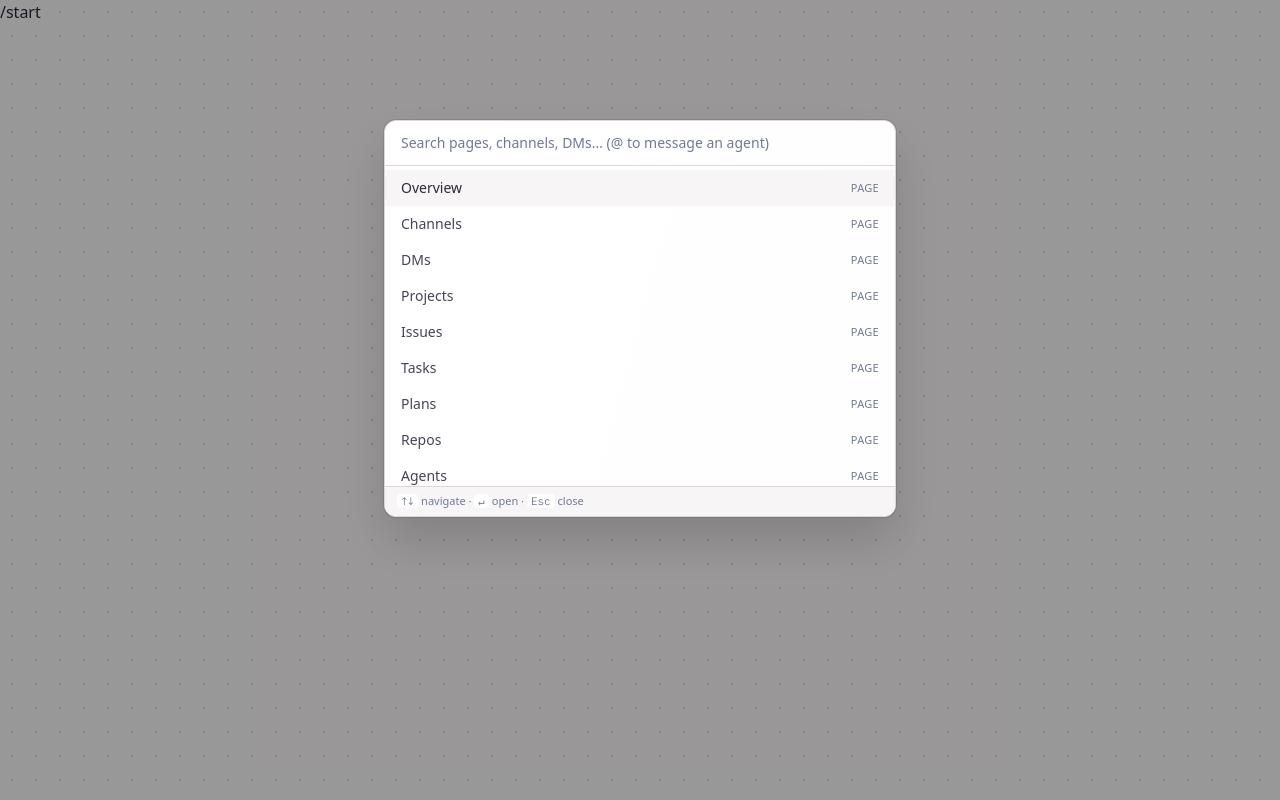
CommandPalette org-scoped navigation (v2.8.1 fix) › jumps to the workspace AI Runtime list
Type "AI Runtime" into the field with test id "palette-input" at (640, 144), box [385, 121, 895, 166]
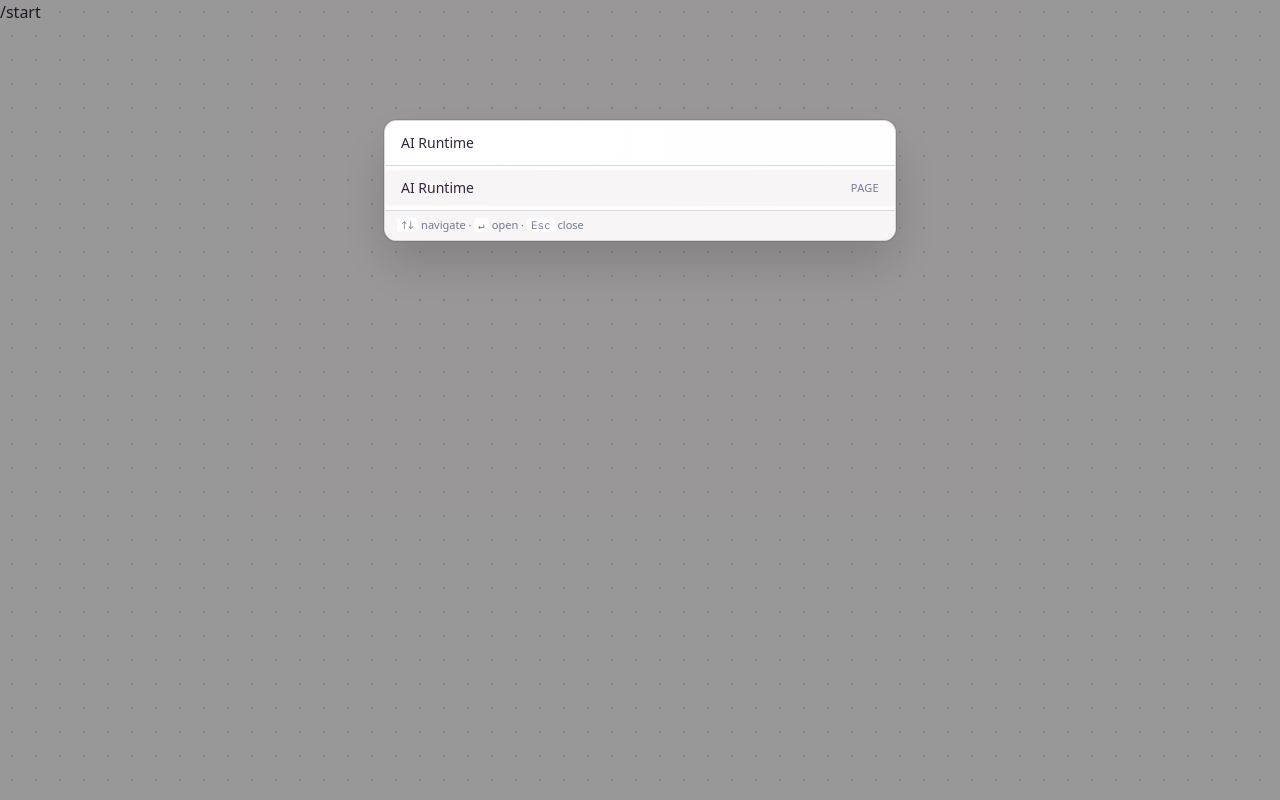
Press Enter in the field with test id "palette-input", box [385, 121, 895, 166]
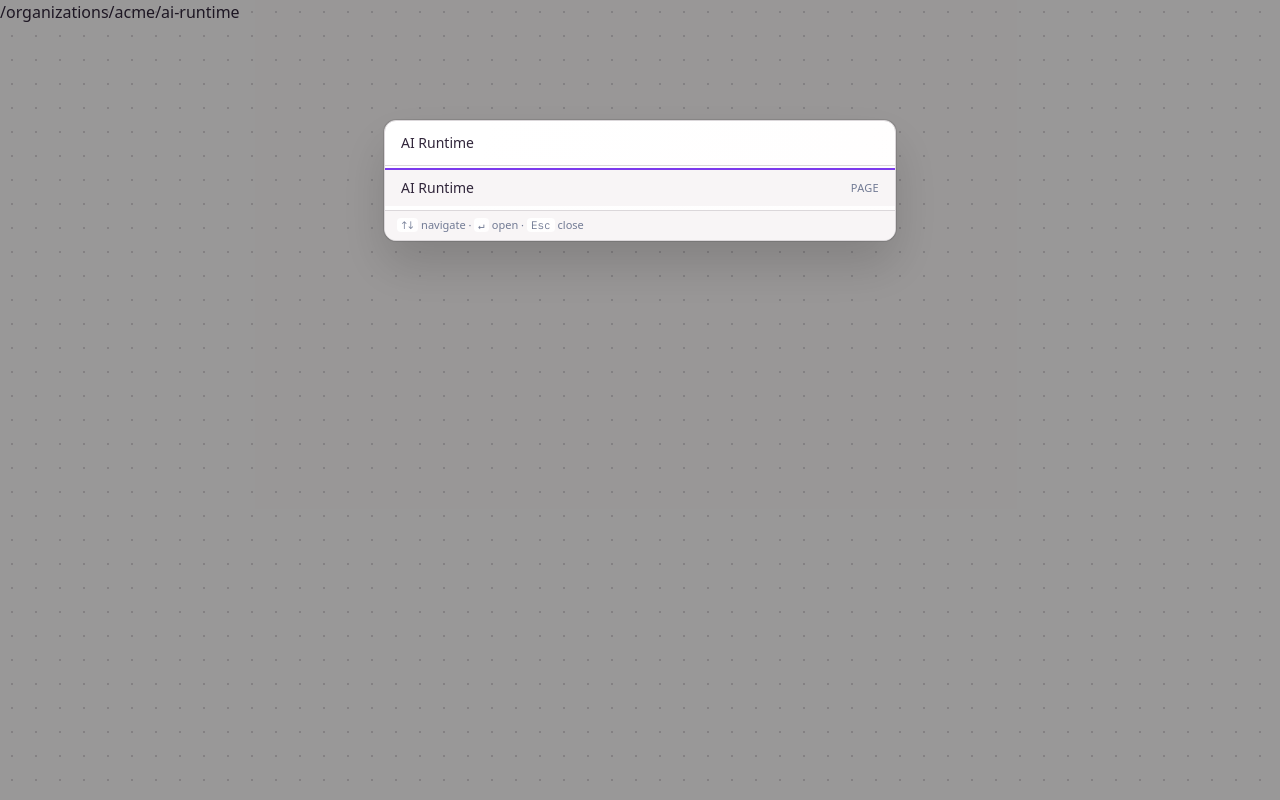
Result: the text with test id "loc" reads "/organizations/acme/ai-runtime" at [0, 1, 240, 23]
